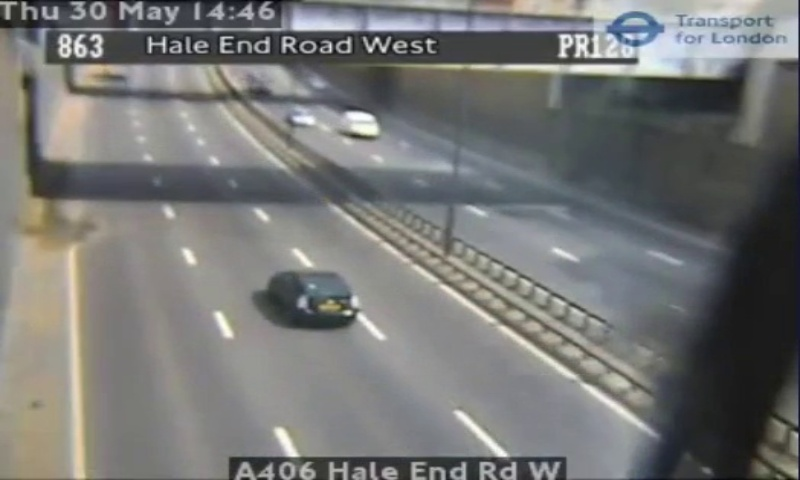car: (268, 270, 360, 327)
